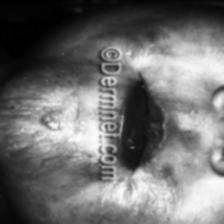Non-Cancerous Skin Condition: (19, 97, 86, 187), (110, 168, 183, 224), (128, 14, 182, 66)
